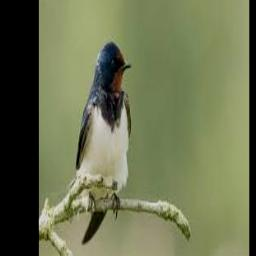Swallow: (77, 42, 133, 245)
